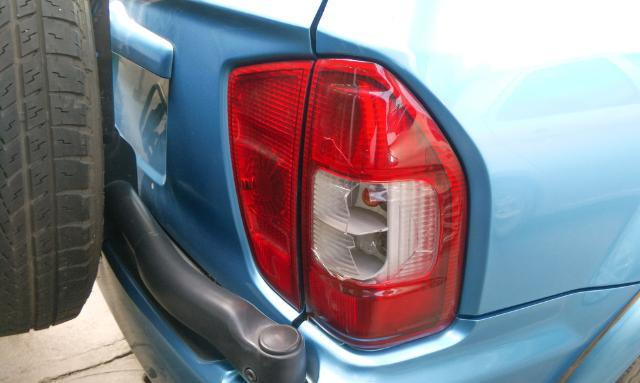lamp broken: (300, 58, 471, 348)
